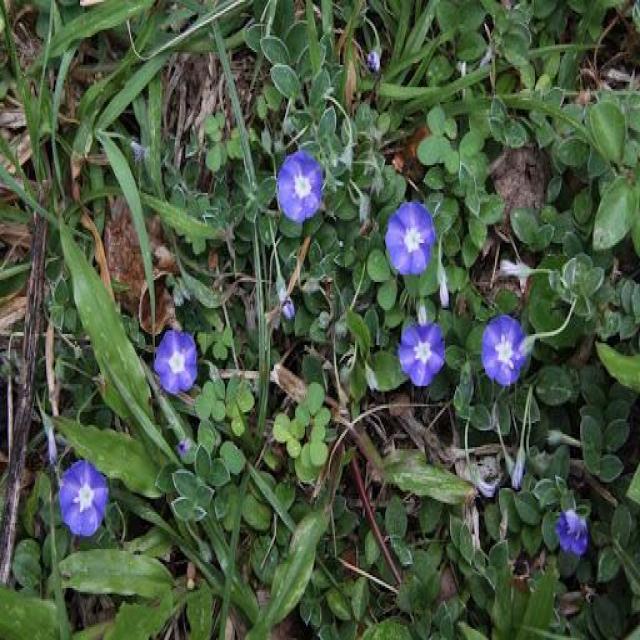organic waste: (390, 305, 444, 400), (148, 316, 201, 402), (477, 306, 529, 390), (384, 194, 436, 277), (59, 459, 111, 541), (276, 148, 326, 222), (545, 498, 591, 563)
